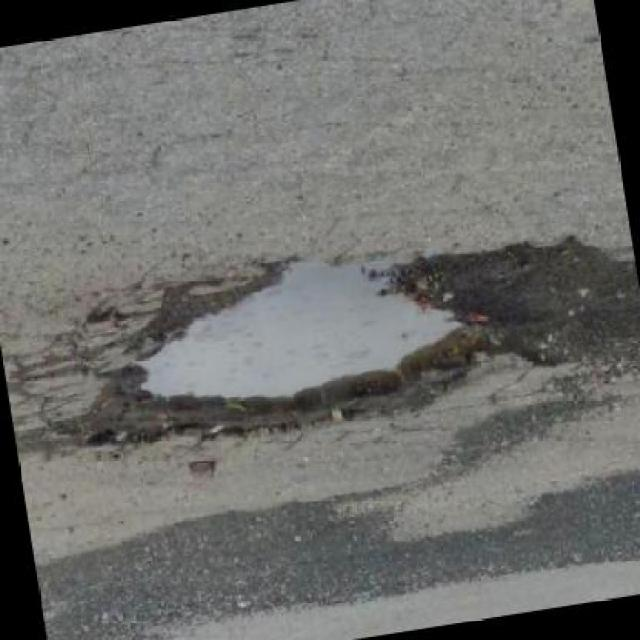pothole1: (60, 228, 509, 480)
